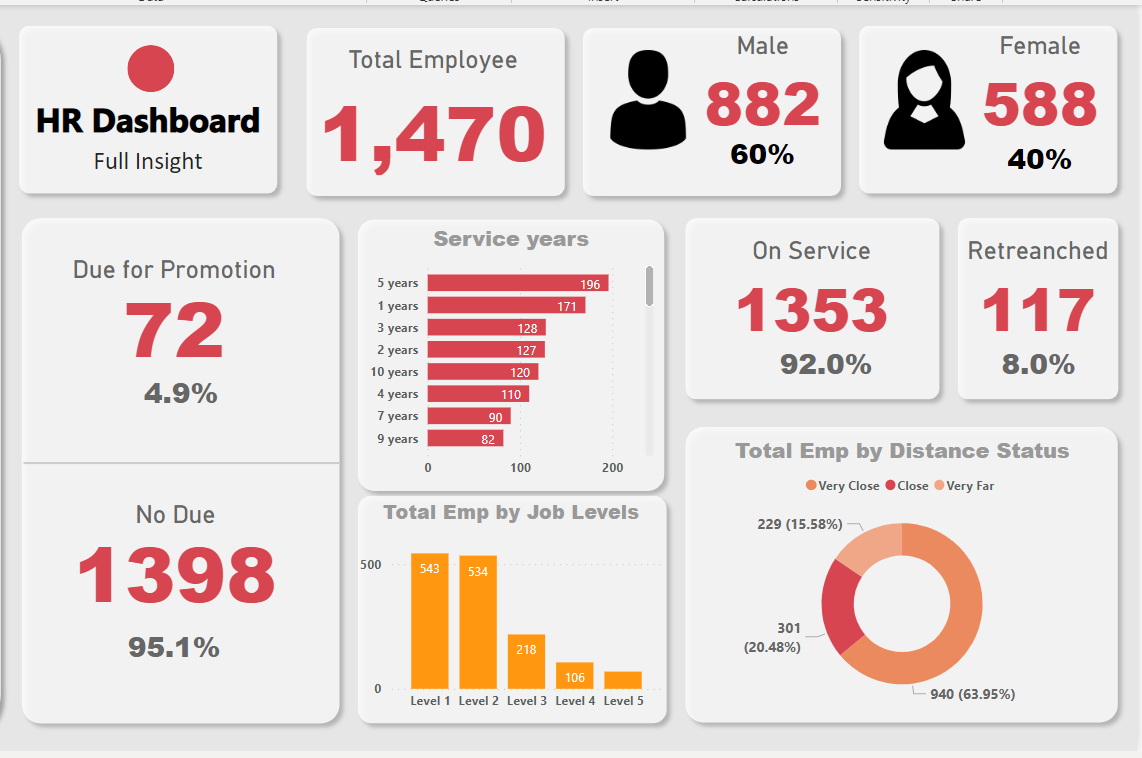

Layout of this report page (visuals, bound fields, positions):
{"tool":"powerbi","page":{"name":"Page 1","canvas":[1280,720],"ordinal":0},"visuals":[{"type":"shape","box":[0,0,191.8,718.8],"z":0},{"type":"shape","box":[191.8,10.9,267,180],"z":1000},{"type":"shape","box":[468.7,12.8,267,180.4],"z":2000},{"type":"shape","box":[735.7,12.8,267,180],"z":3000},{"type":"shape","box":[1002.8,11.4,267,180],"z":4000},{"type":"shape","box":[194,196.2,324.8,505.7],"z":5000},{"type":"shape","box":[518.6,197.8,313.6,279.8],"z":6000},{"type":"shape","box":[518.6,464.3,316,237.6],"z":7000},{"type":"shape","box":[834.6,196.6,262.9,193],"z":8000},{"type":"shape","box":[1097.5,196.6,172.5,193],"z":9000},{"type":"shape","box":[834.8,398.5,435.1,303.1],"z":10000},{"type":"textbox","box":[180.4,83.8,288.3,61.1],"z":11000},{"type":"textbox","box":[180.4,130.7,288.3,61.1],"z":12000},{"type":"shape","box":[305.4,38.3,45.5,45.5],"z":13000},{"type":"card","title":"Total Employee","fields":{"Values":["All Measures.Total Emp"]},"box":[484.8,39,230.5,130.5],"z":14000},{"type":"card","title":"Male","fields":{"Values":["All Measures.Male"]},"box":[847.5,25.4,140.7,105.1],"z":15000},{"type":"card","title":"Female","fields":{"Values":["All Measures.Female"]},"box":[1115.3,25.4,140.7,105.1],"z":16000},{"type":"card","title":"Male","fields":{"Values":["All Measures.% male"]},"box":[856.3,101.3,123,85.6],"z":17000},{"type":"card","title":"Male","fields":{"Values":["All Measures.% Female"]},"box":[1124,106.1,123,85.6],"z":18000},{"type":"image","box":[745.3,38.6,124.2,106.1],"z":19000},{"type":"image","box":[1011.9,38.6,124.2,106.1],"z":20000},{"type":"card","title":"Due for Promotion","fields":{"Values":["All Measures.Due for Promotion"]},"box":[243.6,241.2,213.5,104.9],"z":21000},{"type":"card","title":"Male","fields":{"Values":["All Measures.% Due for promotion"]},"box":[295.5,331.7,123,85.6],"z":22000},{"type":"card","title":"No Due","fields":{"Values":["All Measures.Not Due"]},"box":[244.8,477.6,213.5,104.9],"z":23000},{"type":"card","title":"Male","fields":{"Values":["All Measures.% Not Due"]},"box":[294.3,582.5,112.2,73.6],"z":24000},{"type":"shape","box":[205,303.9,305.1,276.2],"z":25000},{"type":"clusteredBarChart","title":"Service years","fields":{"Category":["HR Analytics Data.Service years"],"Y":["All Measures.Total Emp"]},"box":[533.1,209.8,284.6,254.5],"z":26000},{"type":"columnChart","fields":{"Y":["All Measures.Total Emp"],"Category":["HR Analytics Data.Job Levels"]},"box":[524.6,475.2,301.5,214.7],"z":27000},{"type":"card","title":"On Service","fields":{"Values":["All Measures.On services"]},"box":[882.8,223.1,165.2,108.5],"z":27001},{"type":"card","title":"Male","fields":{"Values":["All Measures.% On services"]},"box":[917.8,303.9,123,85.6],"z":27002},{"type":"card","title":"Retreanched","fields":{"Values":["All Measures.Will be Retreanched"]},"box":[1101.1,223.1,165.2,108.5],"z":27003},{"type":"card","title":"Male","fields":{"Values":["All Measures.% Will be Retreanched"]},"box":[1122.8,303.9,123,85.6],"z":27004},{"type":"donutChart","fields":{"Category":["HR Analytics Data.Distance Status"],"Y":["All Measures.Total Emp"]},"box":[852.7,414.9,400.4,268.9],"z":27005}]}

Visuals, with their boxes on the page's 1280x720 design canvas (x1, y1, x2, y2). These are canvas units, not pixel positions in the 1142x758 screenshot, which may show the page scaled, cropped or inside an application window:
shape: 0 0 192 719
shape: 192 11 459 191
shape: 469 13 736 193
shape: 736 13 1003 193
shape: 1003 11 1270 191
shape: 194 196 519 702
shape: 519 198 832 478
shape: 519 464 835 702
shape: 835 197 1098 390
shape: 1098 197 1270 390
shape: 835 398 1270 702
textbox: 180 84 469 145
textbox: 180 131 469 192
shape: 305 38 351 84
"Total Employee" card: 485 39 715 170
"Male" card: 848 25 988 130
"Female" card: 1115 25 1256 130
"Male" card: 856 101 979 187
"Male" card: 1124 106 1247 192
image: 745 39 870 145
image: 1012 39 1136 145
"Due for Promotion" card: 244 241 457 346
"Male" card: 296 332 418 417
"No Due" card: 245 478 458 582
"Male" card: 294 582 406 656
shape: 205 304 510 580
"Service years" clusteredBarChart: 533 210 818 464
columnChart - All Measures.Total Emp x HR Analytics Data.Job Levels: 525 475 826 690
"On Service" card: 883 223 1048 332
"Male" card: 918 304 1041 390
"Retreanched" card: 1101 223 1266 332
"Male" card: 1123 304 1246 390
donutChart - HR Analytics Data.Distance Status x All Measures.Total Emp: 853 415 1253 684
